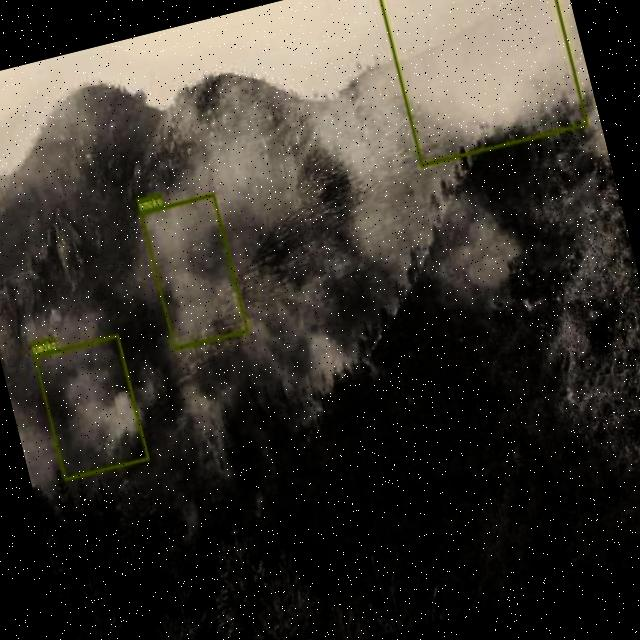smoke: (377, 0, 588, 167), (138, 191, 248, 350), (32, 334, 148, 479)
